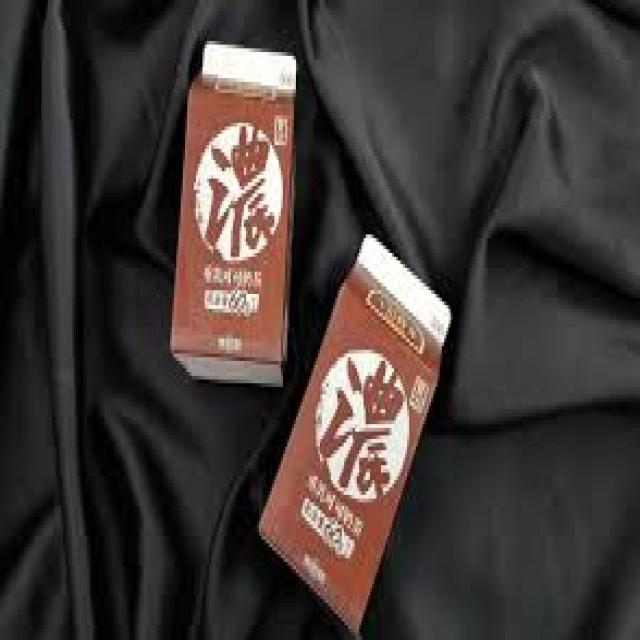Known_ChocoMilkTea: (256, 283, 453, 617), (183, 44, 289, 386)
